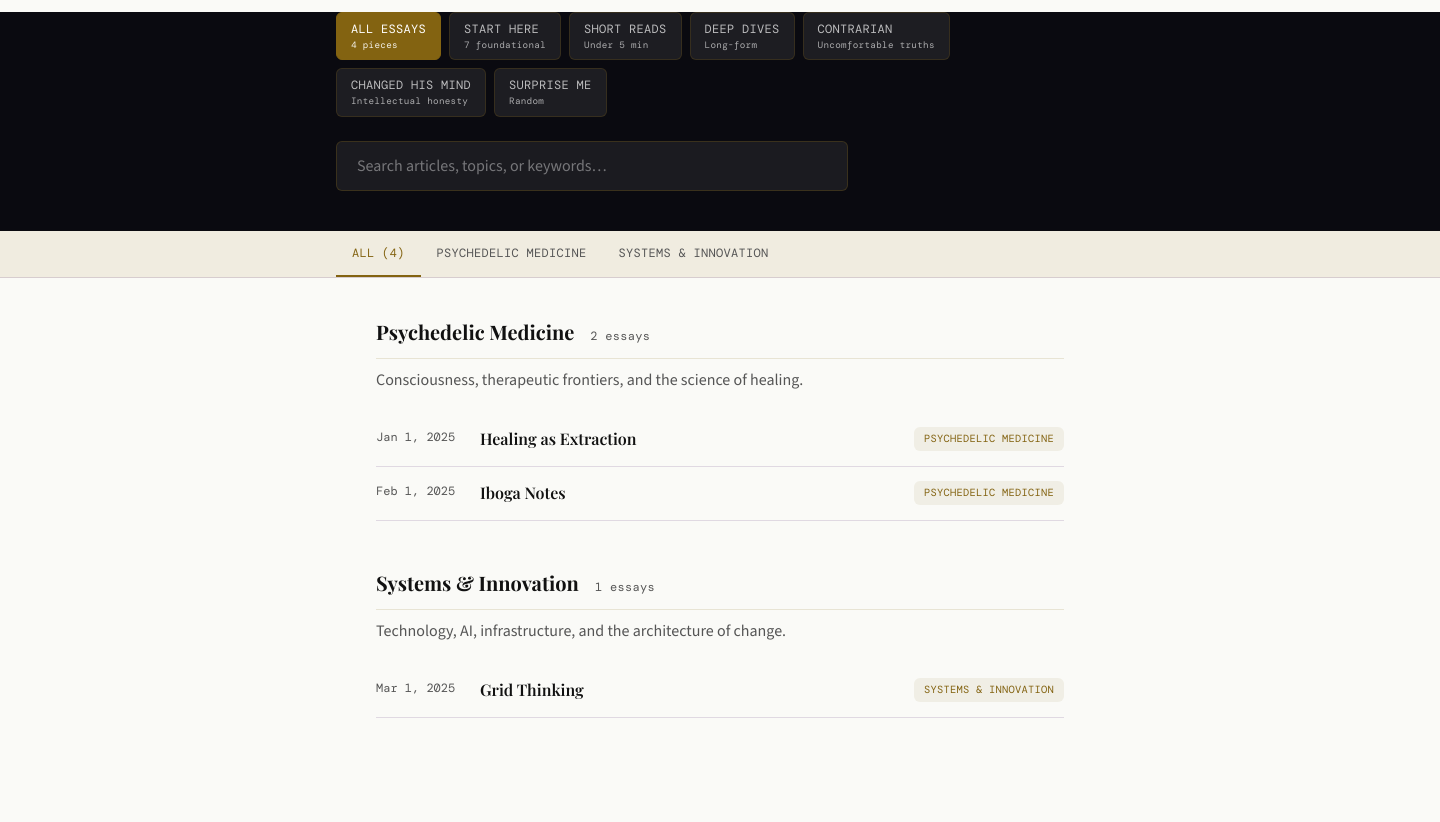
Test: ArticlesExplorer › search matches title, excerpt and tags, and shows the result count
In the search field with placeholder "Search articles, topics, or keywords…": (592, 166) [336,141,848,191], type "energy"
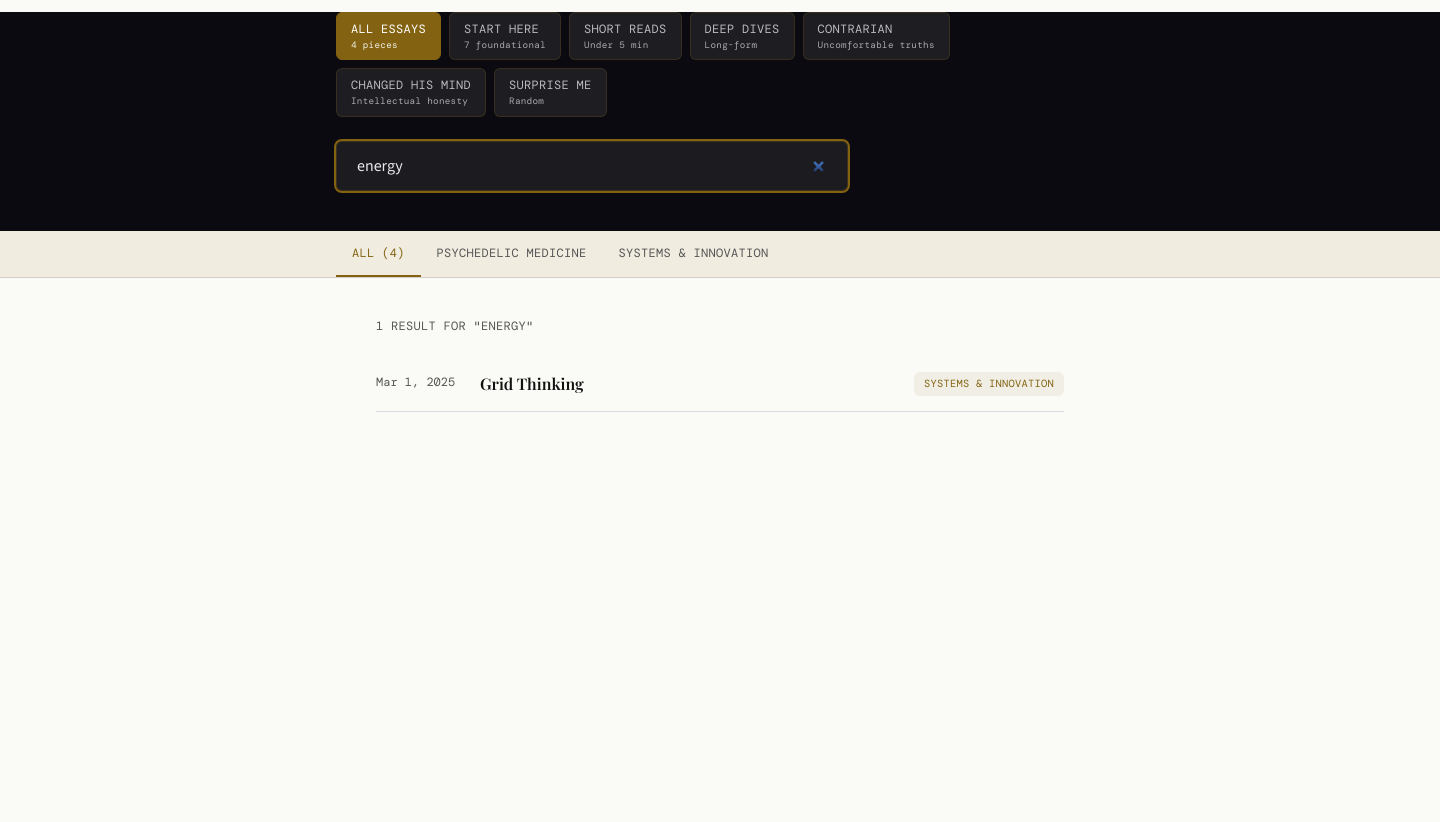
Check: the text "1 result for \"energy\"" is shown, box [376,318,534,334]
Replace the text in the search field with placeholder "Search articles, topics, or keywords…" with "ibogaine": (592, 166) [336,141,848,191]
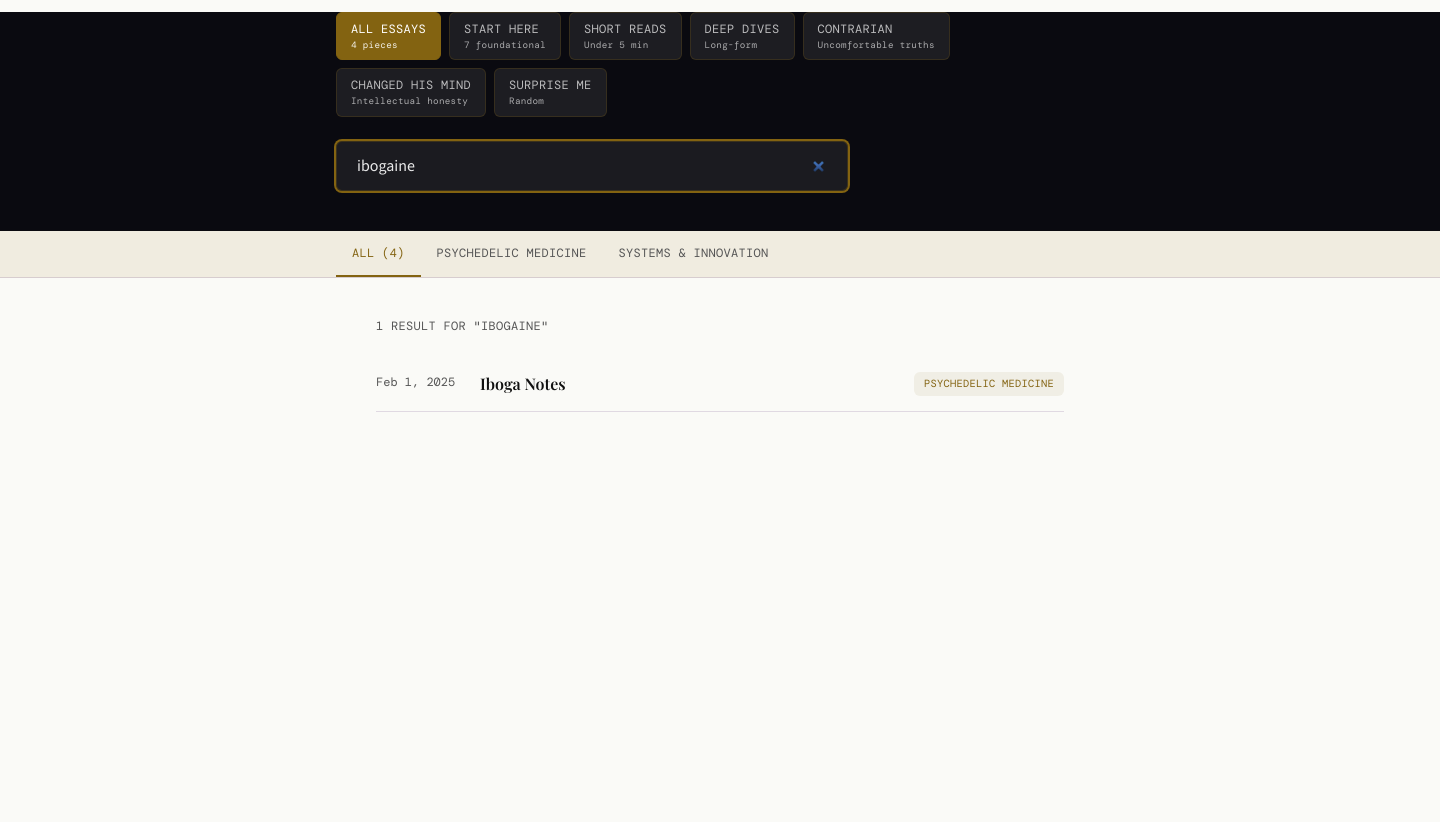
Replace the text in the search field with placeholder "Search articles, topics, or keywords…" with "xyz": (592, 166) [336,141,848,191]
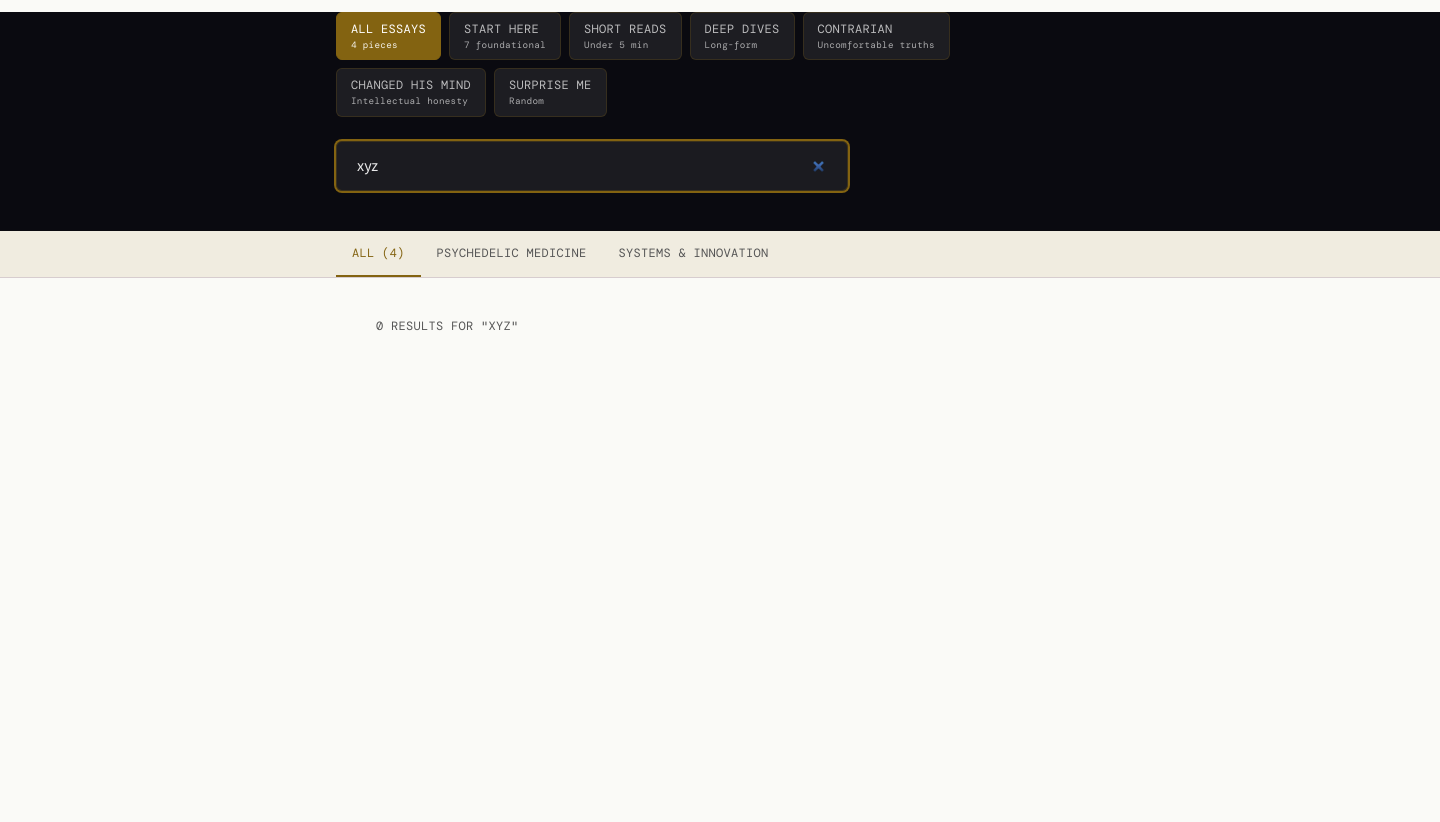
Check: the text "0 results for \"xyz\"" is shown, box [376,318,518,334]
